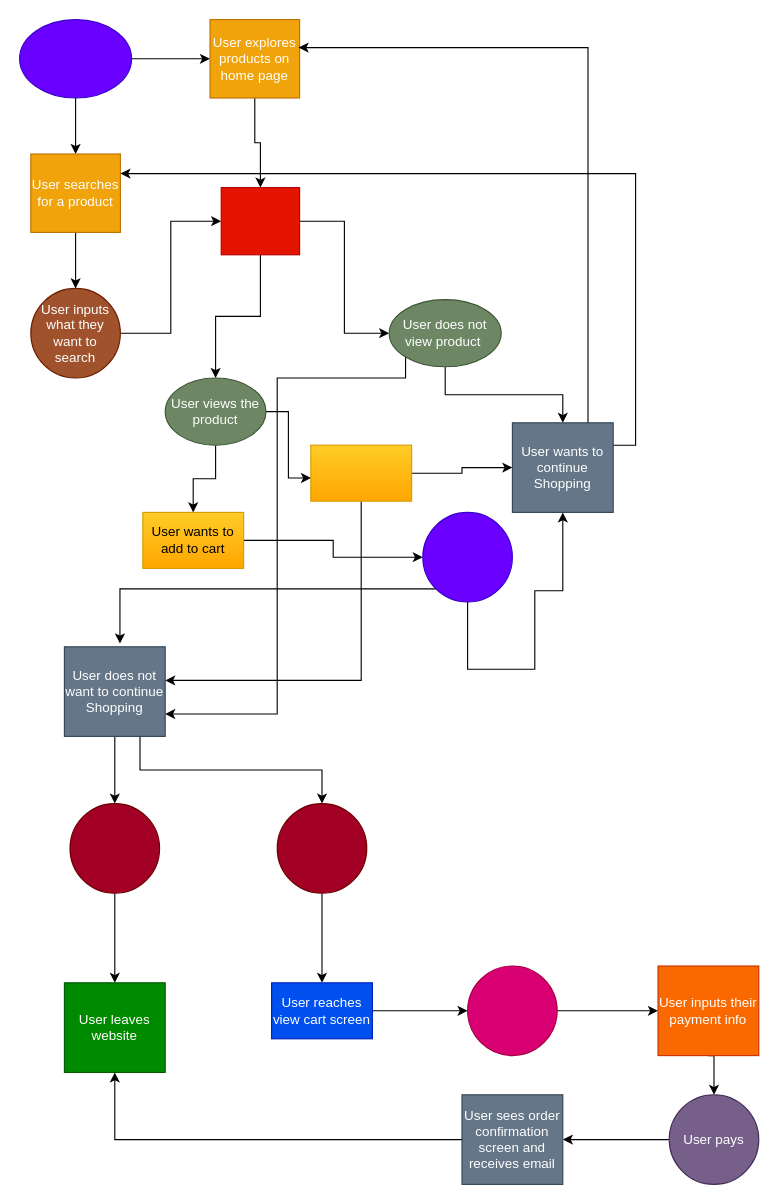
Some shapes in this 778 by 1204 pixel diagram are drawn without their labels. The centre of each missing label's shape, as x and y in pixels:
"Item gets added to cart" goes at [467,556].
"User does not checkout" goes at [114,847].
"User does not want to add to cart" goes at [361,472].
"User enters site" goes at [75,58].
"User looks over products" goes at [260,220].
"User views payments" goes at [511,1010].
"User wants to checkout" goes at [321,847].
